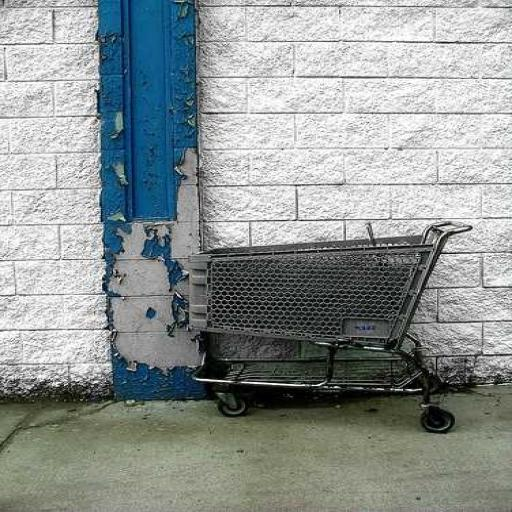shopping_cart: (182, 220, 474, 436)
